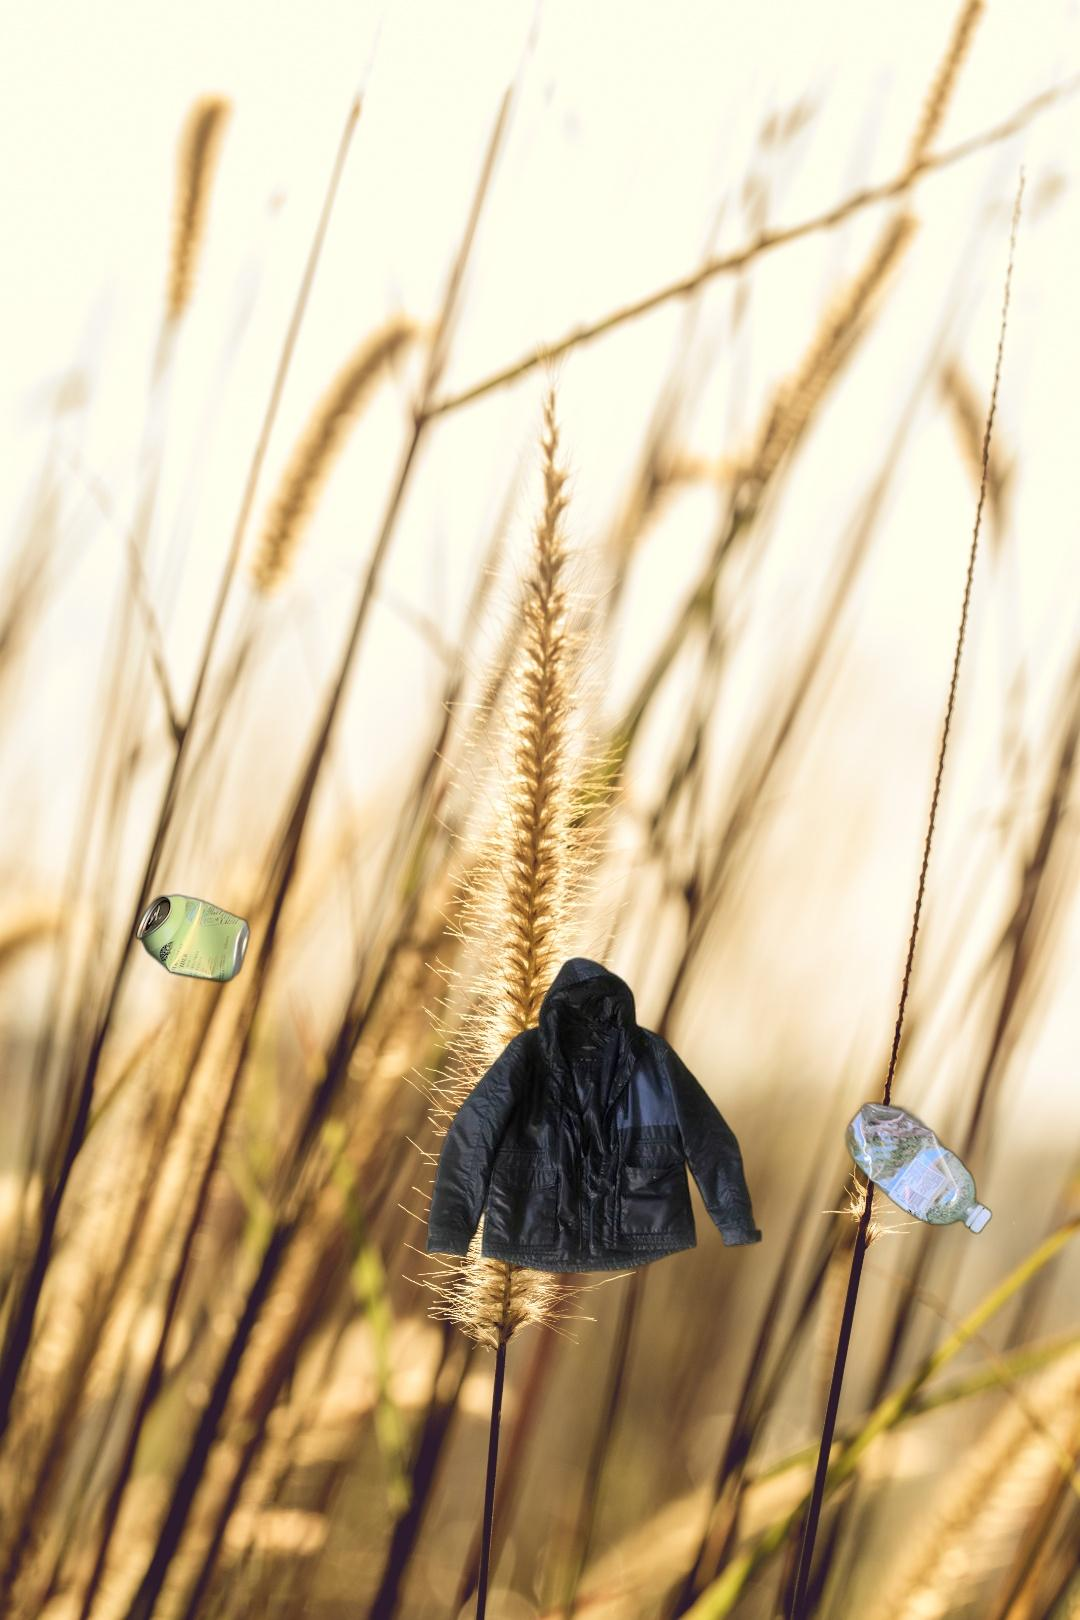clothes: (423, 953, 765, 1278)
metal-cans: (133, 890, 254, 988)
plastic-bottles: (843, 1096, 996, 1240)
